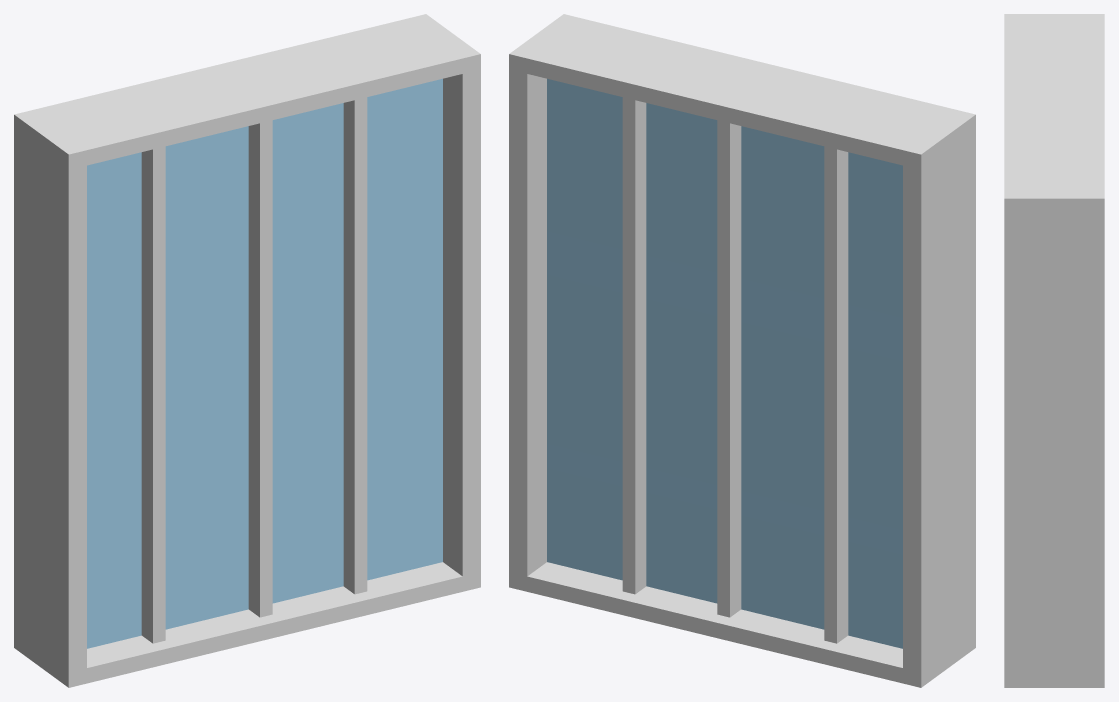
The model's file is window_014.fbx.
The picture shows the model from 3 angles, left to right: view 1: azimuth 30°, elevation 25°; view 2: azimuth 150°, elevation 25°; view 3: azimuth 270°, elevation 25°; orthographic projection. The views are drawn at different scales.
Visible parts, largest first — view 1: window_014; view 2: window_014; view 3: window_014.
Part boxes in pixels (x1,y1,x2,y2): window_014: (14,14,480,687); window_014: (509,14,975,687); window_014: (1004,14,1104,687).
Bounding box in the file's own units: 161 × 37 × 199.
